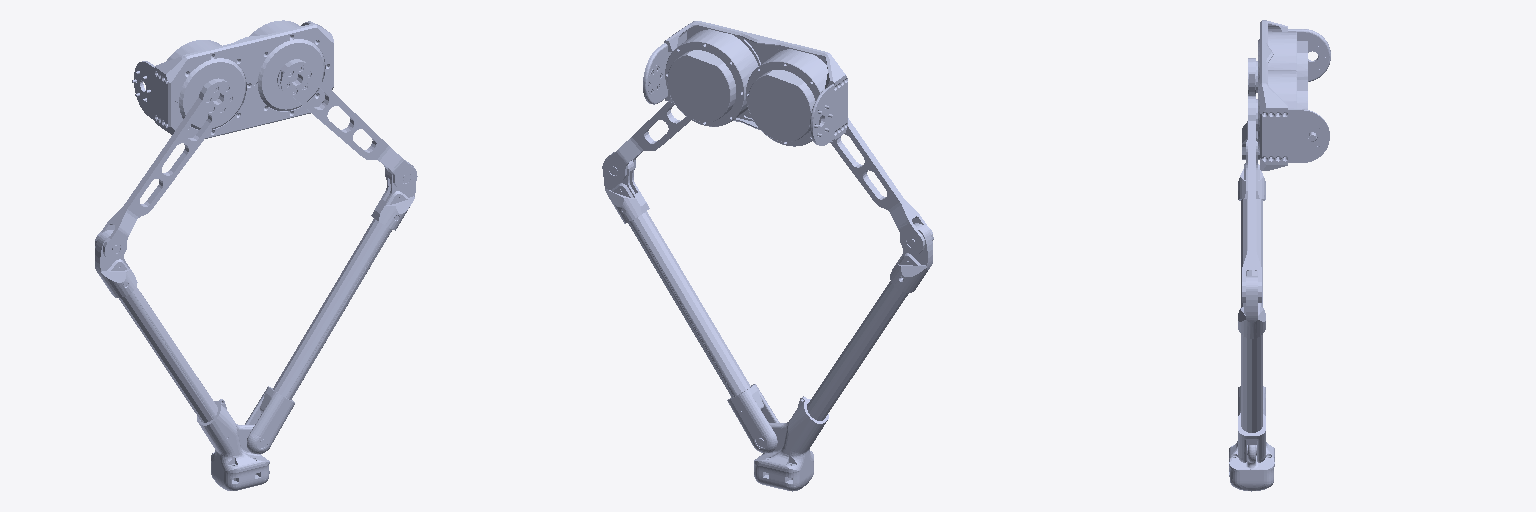
URDF robot description (ntnu_leg):
<?xml version="1.0" encoding="utf-8"?>
<!-- This URDF was automatically created by SolidWorks to URDF Exporter! Originally created by [author] ([email redacted]) 
     Commit Version: 1.6.0-1-g15f4949  Build Version: 1.6.7594.29634
     For more information, please see http://wiki.ros.org/sw_urdf_exporter -->
<robot
  name="ntnu_leg">
  <link name="world"/>

  <link
    name="MH">
    <inertial>
      <origin
        xyz="0.091111 0.00024794 -0.030241"
        rpy="0 0 0" />
      <mass
        value="1.4057" />
      <inertia
        ixx="0.0010021"
        ixy="1.1E-06"
        ixz="-7.91E-06"
        iyy="0.004407"
        iyz="-6.01E-06"
        izz="0.0048417" />
    </inertial>
    <visual>
      <origin
        xyz="0 0 0"
        rpy="0 0 0" />
      <geometry>
        <mesh
          filename="package://ntnu_leg/meshes/MH.STL" />
      </geometry>
      <material
        name="">
        <color
          rgba="0.79216 0.81961 0.93333 1" />
      </material>
    </visual>
    <collision>
      <origin
        xyz="0 0 0"
        rpy="0 0 0" />
      <geometry>
        <mesh
          filename="package://ntnu_leg/meshes/MH_collision.STL" />
      </geometry>
    </collision>
  </link>
  <joint
    name="jointMH"
    type="revolute">
    <origin
      xyz="0 0 1"
      rpy="-1.57079632679  0 0" />
    <parent
      link="world" />
    <child
      link="MH" />
    <axis
      xyz="1 0 0" />
    <limit
      lower="-1.57079632679"
      upper="1.57079632679"
      effort="100"
      velocity="1000" />
  </joint>
  <link
    name="link11">
    <inertial>
      <origin
        xyz="0.098421 -0.00092667 -0.00012402"
        rpy="0 0 0" />
      <mass
        value="0.10145" />
      <inertia
        ixx="9.3E-06"
        ixy="2.43E-06"
        ixz="-1.24E-06"
        iyy="0.00050506"
        iyz="1E-08"
        izz="0.00051065" />
    </inertial>
    <visual>
      <origin
        xyz="0 0 0"
        rpy="0 0 0" />
      <geometry>
        <mesh
          filename="package://ntnu_leg/meshes/link11.STL" />
      </geometry>
      <material
        name="">
        <color
          rgba="0.79216 0.81961 0.93333 1" />
      </material>
    </visual>
    <collision>
      <origin
        xyz="0 0 0"
        rpy="0 0 0" />
      <geometry>
        <mesh
          filename="package://ntnu_leg/meshes/link11_collision.STL" />
      </geometry>
    </collision>
  </link>
  <joint
    name="joint11"
    type="revolute">
    <origin
      xyz="0.046 -1.1338E-05 -0.0597"
      rpy="3.1416 0 2.3095" />
    <parent
      link="MH" />
    <child
      link="link11" />
    <axis
      xyz="0 0 1" />
    <limit
      lower="-3.14"
      upper="3.14"
      effort="100"
      velocity="1000" />
  </joint>
  <link
    name="link21">
    <inertial>
      <origin
        xyz="0.20494 -0.021034 -2.714E-05"
        rpy="0 0 0" />
      <mass
        value="0.20117" />
      <inertia
        ixx="3.571E-05"
        ixy="9.52E-05"
        ixz="1.7E-07"
        iyy="0.0018983"
        iyz="-2E-08"
        izz="0.0019089" />
    </inertial>
    <visual>
      <origin
        xyz="0 0 0"
        rpy="0 0 0" />
      <geometry>
        <mesh
          filename="package://ntnu_leg/meshes/link21.STL" />
      </geometry>
      <material
        name="">
        <color
          rgba="0.79216 0.81961 0.93333 1" />
      </material>
    </visual>
    <collision>
      <origin
        xyz="0 0 0"
        rpy="0 0 0" />
      <geometry>
        <mesh
          filename="package://ntnu_leg/meshes/link21_collision.STL" />
      </geometry>
    </collision>
  </link>
  <joint
    name="joint21"
    type="revolute">
    <origin
      xyz="0.18 0 0"
      rpy="0 0 1.3265" />
    <parent
      link="link11" />
    <child
      link="link21" />
    <axis
      xyz="0 0 1" />
    <limit
      lower="-2.85"
      upper="1.58"
      effort="100"
      velocity="1000" />
  </joint>
  <link
    name="link12">
    <inertial>
      <origin
        xyz="0.098201 0.00092745 -0.00012329"
        rpy="0 0 0" />
      <mass
        value="0.10205" />
      <inertia
        ixx="9.34E-06"
        ixy="-2.49E-06"
        ixz="-1.24E-06"
        iyy="0.00050784"
        iyz="-1E-08"
        izz="0.00051346" />
    </inertial>
    <visual>
      <origin
        xyz="0 0 0"
        rpy="0 0 0" />
      <geometry>
        <mesh
          filename="package://ntnu_leg/meshes/link12.STL" />
      </geometry>
      <material
        name="">
        <color
          rgba="0.79216 0.81961 0.93333 1" />
      </material>
    </visual>
    <collision>
      <origin
        xyz="0 0 0"
        rpy="0 0 0" />
      <geometry>
        <mesh
          filename="package://ntnu_leg/meshes/link12_collision.STL" />
      </geometry>
    </collision>
  </link>
  <joint
    name="joint12"
    type="revolute">
    <origin
      xyz="0.136 -1.1338E-05 -0.0597"
      rpy="3.1416 0 0.83482" />
    <parent
      link="MH" />
    <child
      link="link12" />
    <axis
      xyz="0 0 1" />
    <limit
      lower="-3.14"
      upper="3.14"
      effort="100"
      velocity="1000" />
  </joint>
  <link
    name="link22">
    <inertial>
      <origin
        xyz="0.18647 0.0041966 0"
        rpy="0 0 0" />
      <mass
        value="0.13331" />
      <inertia
        ixx="1.73E-05"
        ixy="5.202E-05"
        ixz="0"
        iyy="0.0015703"
        iyz="0"
        izz="0.0015717" />
    </inertial>
    <visual>
      <origin
        xyz="0 0 0"
        rpy="0 0 0" />
      <geometry>
        <mesh
          filename="package://ntnu_leg/meshes/link22.STL" />
      </geometry>
      <material
        name="">
        <color
          rgba="0.79216 0.81961 0.93333 1" />
      </material>
    </visual>
    <collision>
      <origin
        xyz="0 0 0"
        rpy="0 0 0" />
      <geometry>
        <mesh
          filename="package://ntnu_leg/meshes/link22_collision.STL" />
      </geometry>
    </collision>
  </link>
  <joint
    name="joint22"
    type="revolute">
    <origin
      xyz="0.18 0 0"
      rpy="0 0 -1.3233" />
    <parent
      link="link12" />
    <child
      link="link22" />
    <axis
      xyz="0 0 1" />
    <limit
      lower="-1.51"
      upper="2.9"
      effort="100"
      velocity="1000" />
  </joint>

<!-- Add self collision -->
<gazebo reference="link21">
  <selfCollide>true</selfCollide>
</gazebo>
<gazebo reference="link22">
  <selfCollide>true</selfCollide>
</gazebo>


</robot>

--- Render facts (derived) ---
3 views of the same robot in one strip: view 1: azimuth 30°, elevation 25°; view 2: azimuth 150°, elevation 25°; view 3: azimuth 270°, elevation 25° (orthographic).
Robot: ntnu_leg — 6 links, 5 joints (5 revolute); root link world; default pose: all joints at 0.
Links seen in each view (by area): view 1: MH, link21, link22, link11, link12; view 2: MH, link21, link22, link11, link12; view 3: MH, link22, link21, link12, link11.
Boxes of the visible links, bbox=[...] form: MH: bbox=[132, 20, 333, 138]; link21: bbox=[95, 230, 269, 490]; link22: bbox=[245, 160, 415, 453]; link11: bbox=[95, 78, 234, 260]; link12: bbox=[277, 59, 417, 189]; MH: bbox=[643, 21, 847, 146]; link21: bbox=[754, 223, 932, 491]; link22: bbox=[603, 152, 779, 453]; link11: bbox=[830, 118, 933, 254]; link12: bbox=[602, 102, 690, 182]; MH: bbox=[1258, 20, 1330, 170]; link22: bbox=[1238, 276, 1265, 462]; link21: bbox=[1229, 140, 1274, 491]; link12: bbox=[1242, 96, 1261, 302]; link11: bbox=[1242, 58, 1259, 159].
Bounding box of the posed robot: 0.3616 × 0.1002 × 0.4782 m (x, y, z).
5 mesh visuals loaded from 5 distinct referenced files (5 binary STL).
